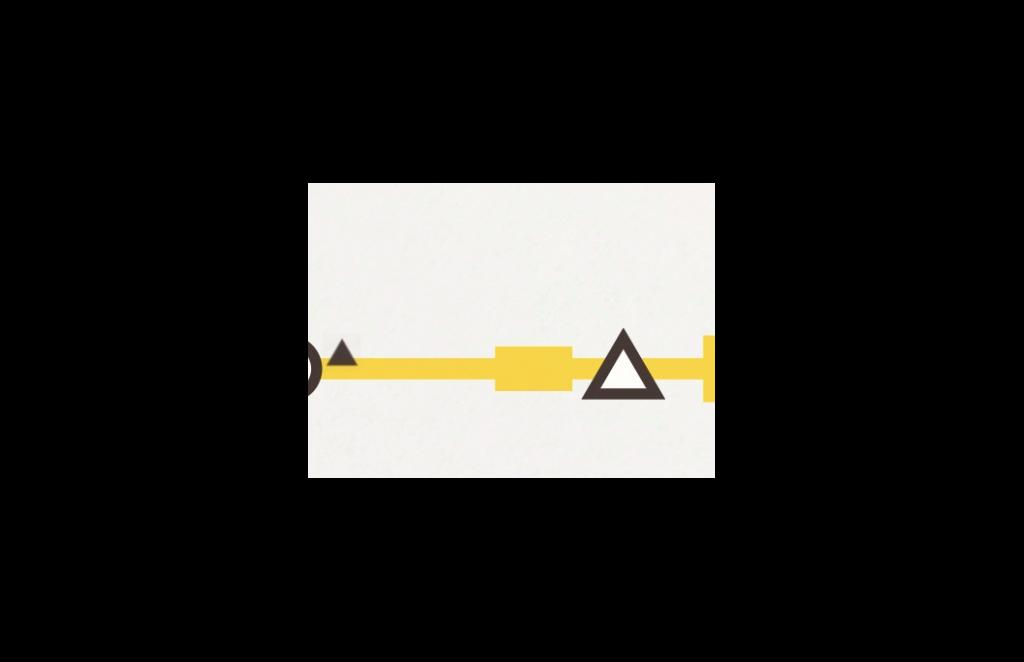connected_station: (588, 326, 671, 418), (308, 323, 330, 404)
line_endpoint: (681, 326, 716, 418)
train: (489, 342, 576, 396)
